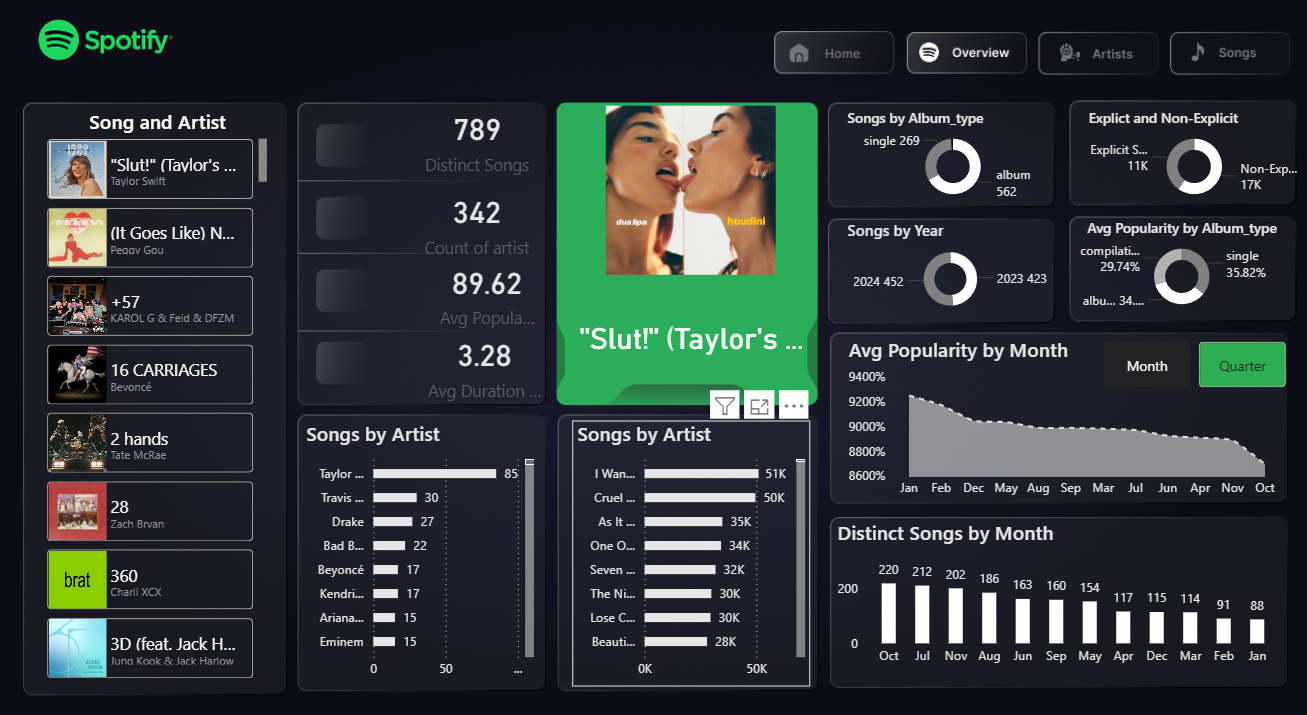

This screenshot's page, from the dashboard's own definition file:
{"tool":"powerbi","page":{"name":"Spotify Dashboard","canvas":[1280,720],"ordinal":0},"visuals":[{"type":"clusteredBarChart","title":"Songs by Artist","fields":{"Category":["Top-50-World.artist"],"Y":["_measures.Distinct Songs"]},"box":[299.7,417,229.5,257.6],"z":0},{"type":"clusteredBarChart","title":"Songs by Artist","fields":{"Category":["Top-50-World.song"],"Y":["Sum(Top-50-World.popularity)"]},"box":[561.1,417,229.5,257.6],"z":1000},{"type":"areaChart","fields":{"Category":["Top-50-World.Month"],"Y":["_measures.Avg Popularity"]},"box":[822.5,336.6,424.6,164.5],"z":2000},{"type":"advancedSlicerVisual","fields":{"Values":["Slicer_option.Slicer_option"]},"box":[1068.6,336.6,187.4,54.8],"z":3000},{"type":"donutChart","title":"Songs by Album_type","fields":{"Y":["_measures.Distinct Songs"],"Category":["Top-50-World.album_type"]},"box":[821.2,116,214.2,95.6],"z":4000},{"type":"donutChart","title":"Explict and Non-Explicit","fields":{"Y":["_measures.Non-Explicit Songs","_measures.Explicit Songs"]},"box":[1054.6,116,214.2,95.6],"z":5000},{"type":"donutChart","title":"Songs by Year","fields":{"Y":["_measures.Distinct Songs"],"Category":["Top-50-World.date.Variation.Date Hierarchy.Year","Top-50-World.date.Variation.Date Hierarchy.Quarter","Top-50-World.date.Variation.Date Hierarchy.Month","Top-50-World.date.Variation.Date Hierarchy.Day"]},"box":[821.2,223.2,209.1,95.6],"z":6000},{"type":"donutChart","title":" Avg Popularity by Album_type","fields":{"Category":["Top-50-World.album_type"],"Y":["_measures.Avg Popularity"]},"box":[1041.8,221.9,214.2,95.6],"z":7000},{"type":"clusteredColumnChart","fields":{"Category":["Top-50-World.Month"],"Y":["_measures.Distinct Songs"]},"box":[811.4,512.9,435.7,150],"z":8000},{"type":"card","fields":{"Values":["_measures.Distinct Songs"]},"box":[411.4,105.7,115.7,80],"z":9000},{"type":"card","fields":{"Values":["Count(Top-50-World.artist)"]},"box":[411.4,185.7,115.7,80],"z":10000},{"type":"card","fields":{"Values":["_measures.Avg Duration Minutes"]},"box":[414.3,302.9,125.7,122.9],"z":11000},{"type":"card","fields":{"Values":["_measures.Avg Popularity per Year"]},"box":[428.6,238.6,101.4,110],"z":12000},{"type":"advancedSlicerVisual","title":"Song and Artist","fields":{"Values":["Top-50-World.song"]},"box":[50,115.7,222.9,558.6],"z":13000},{"type":"cardVisual","fields":{"Data":["Min(Top-50-World.album_cover_url)"]},"box":[488.6,0,374.3,294.3],"z":14000},{"type":"card","fields":{"Values":["Min(Top-50-World.song)"]},"box":[561.4,298.6,230,77.1],"z":15000}]}

Visuals, with their boxes in screenshot pixels (x1, y1, x2, y2), scaled from the page's 1280x720 canvas onto the 1307x715 screenshot:
"Songs by Artist" clusteredBarChart: detection(306, 414, 540, 670)
"Songs by Artist" clusteredBarChart: detection(573, 414, 807, 670)
areaChart - Top-50-World.Month x _measures.Avg Popularity: detection(840, 334, 1273, 498)
advancedSlicerVisual - Slicer_option.Slicer_option: detection(1091, 334, 1282, 389)
"Songs by Album_type" donutChart: detection(839, 115, 1057, 210)
"Explict and Non-Explicit" donutChart: detection(1077, 115, 1296, 210)
"Songs by Year" donutChart: detection(839, 222, 1052, 317)
" Avg Popularity by Album_type" donutChart: detection(1064, 220, 1282, 315)
clusteredColumnChart - Top-50-World.Month x _measures.Distinct Songs: detection(829, 509, 1273, 658)
card - _measures.Distinct Songs: detection(420, 105, 538, 184)
card - Count(Top-50-World.artist): detection(420, 184, 538, 264)
card - _measures.Avg Duration Minutes: detection(423, 301, 551, 423)
card - _measures.Avg Popularity per Year: detection(438, 237, 541, 346)
"Song and Artist" advancedSlicerVisual: detection(51, 115, 279, 670)
cardVisual - Min(Top-50-World.album_cover_url): detection(499, 0, 881, 292)
card - Min(Top-50-World.song): detection(573, 297, 808, 373)
